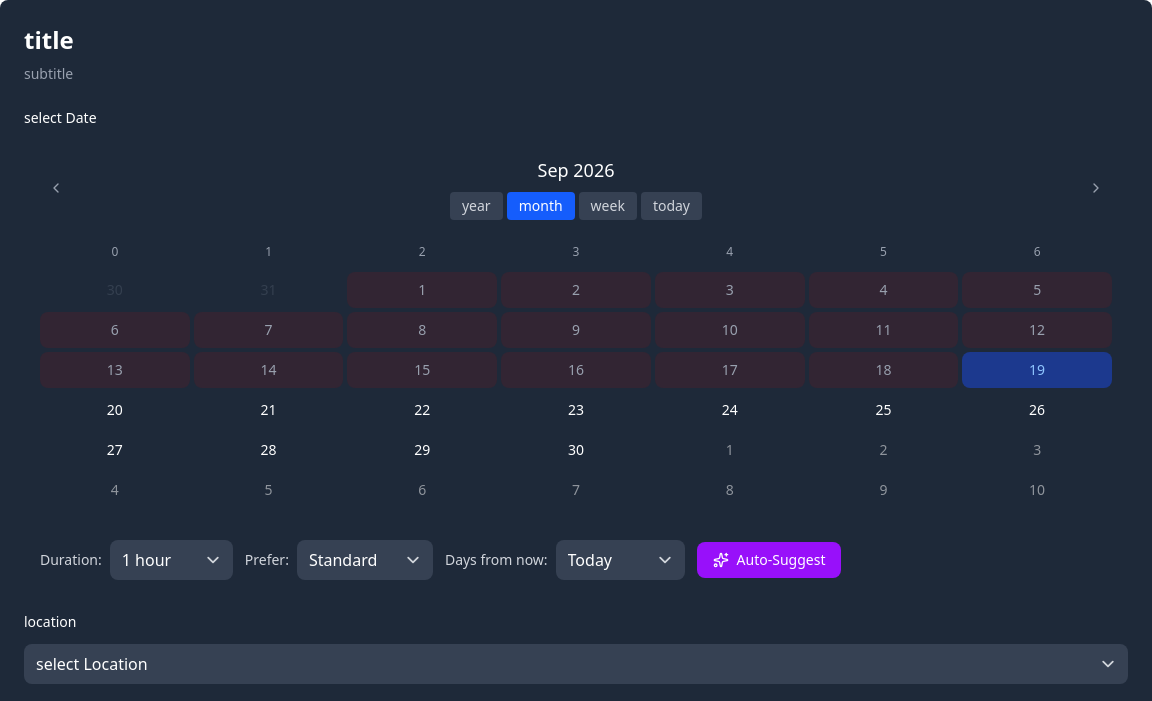
ServiceScheduler - calendar view toggle › Today click returns to month view (highlights month button)
Check: the button "today" is shown, box [641,192,702,220]
Note: Move away from month view first.
Click the button "week" at [608, 206], box [579,192,637,220]
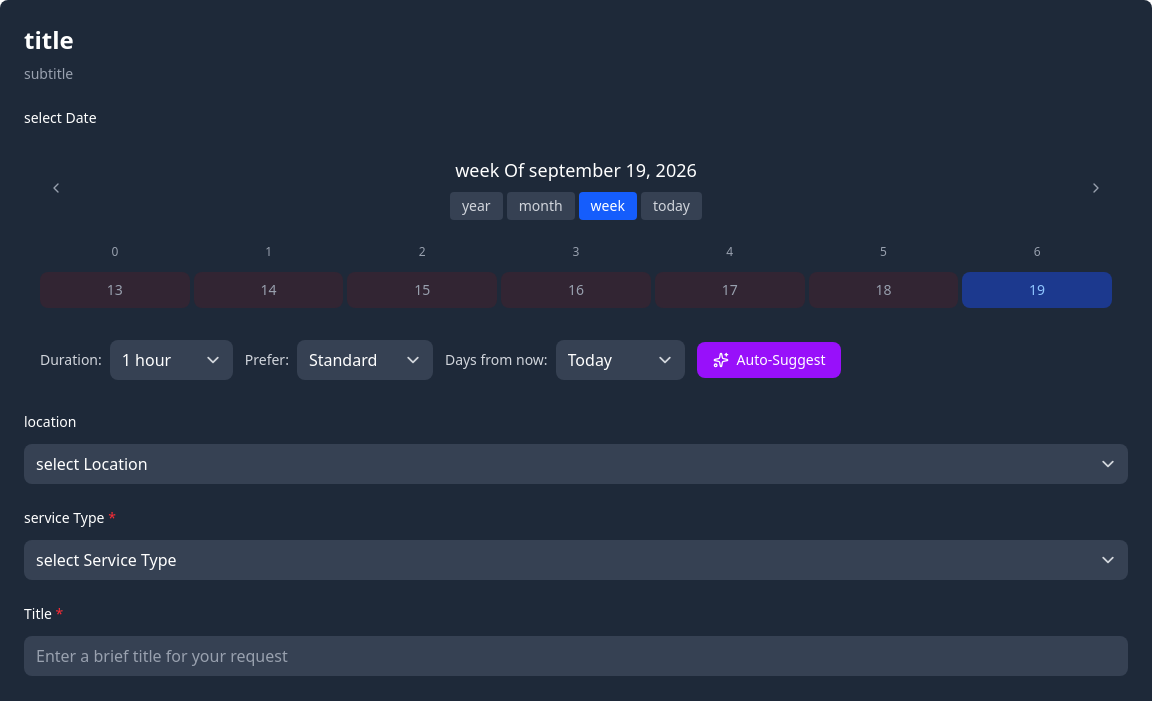
Check: the button "week" has class "bg-blue-600", box [579,192,637,220]
Note: Today button should reset to month view.
Click the button "today" at [671, 206], box [641,192,702,220]
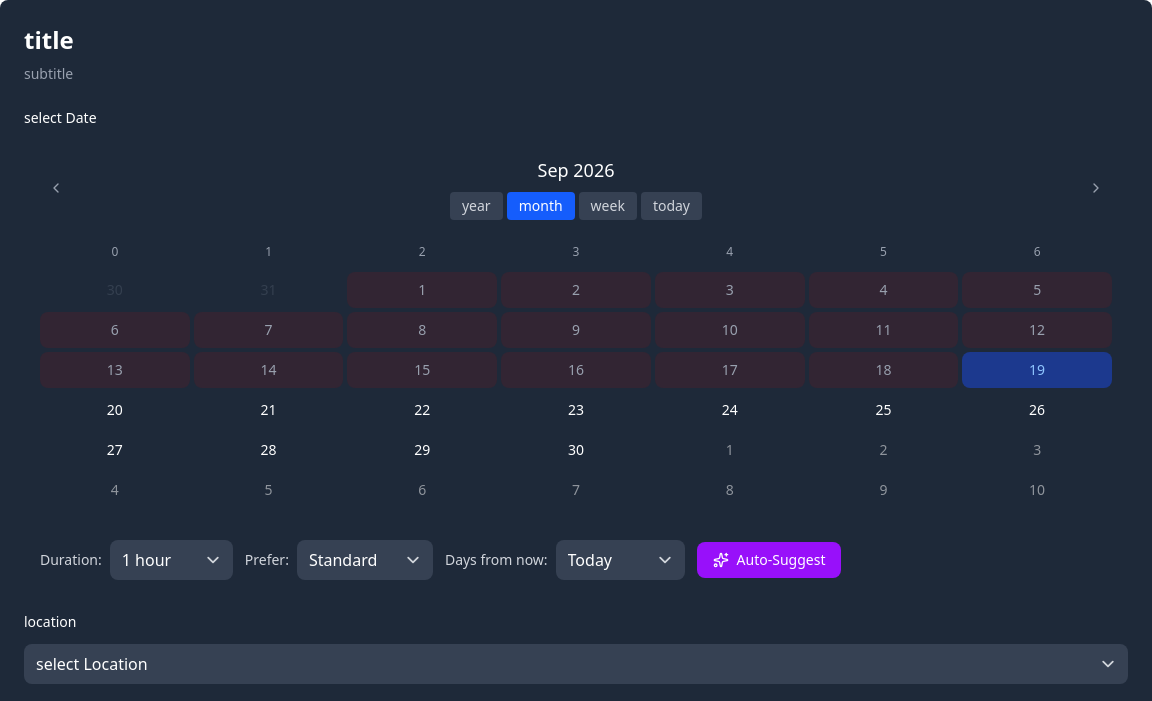
Check: the button "month" has class "bg-blue-600", box [507,192,575,220]
Check: the button "week" does not have class "bg-blue-600", box [579,192,637,220]
